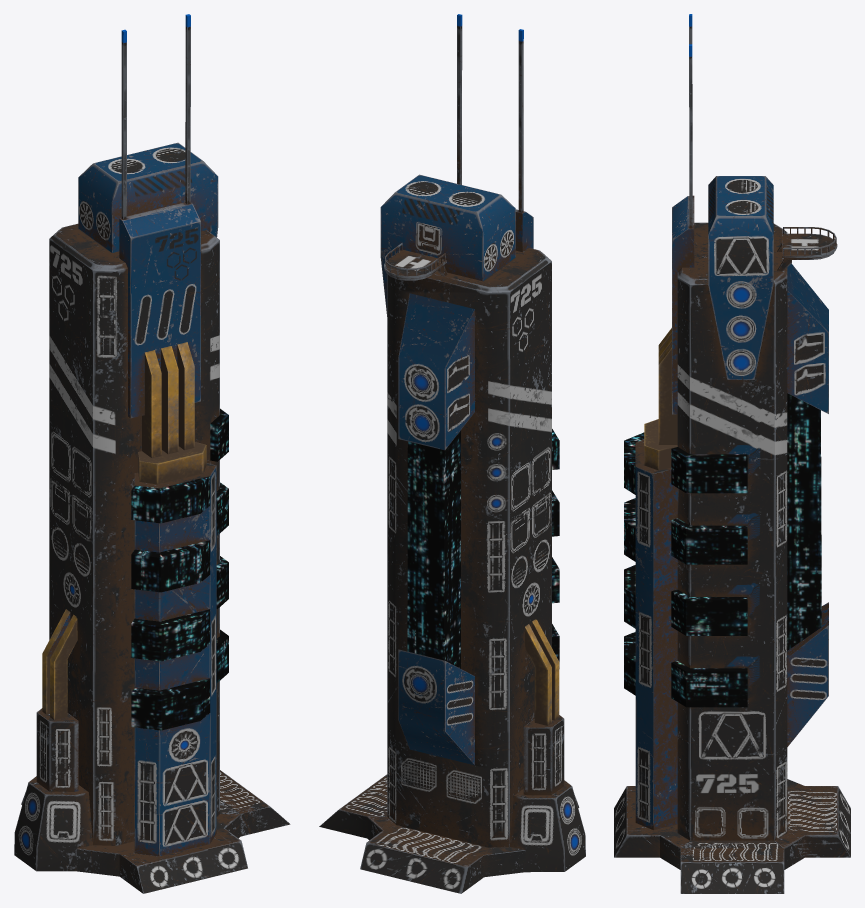
File: Cyberpunk skyscrapers.fbx
3 renders of one model, left to right at view 1: azimuth 30°, elevation 25°; view 2: azimuth 150°, elevation 25°; view 3: azimuth 270°, elevation 25°, orthographic. The views are drawn at different scales.
Parts seen in each view (by area): view 1: SM_building5; view 2: SM_building5; view 3: SM_building5.
Boxes of the visible parts, left/top/right/bottom form: SM_building5: left=14, top=14, right=290, bottom=893; SM_building5: left=319, top=14, right=585, bottom=893; SM_building5: left=614, top=14, right=850, bottom=893.
Bounding box in the file's own units: 840 × 2785 × 745.
